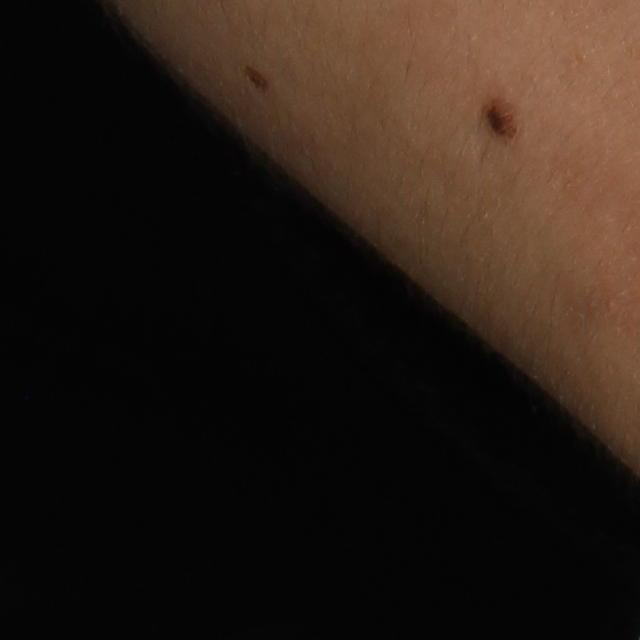nevus: (483, 99, 516, 144), (246, 60, 275, 91)
